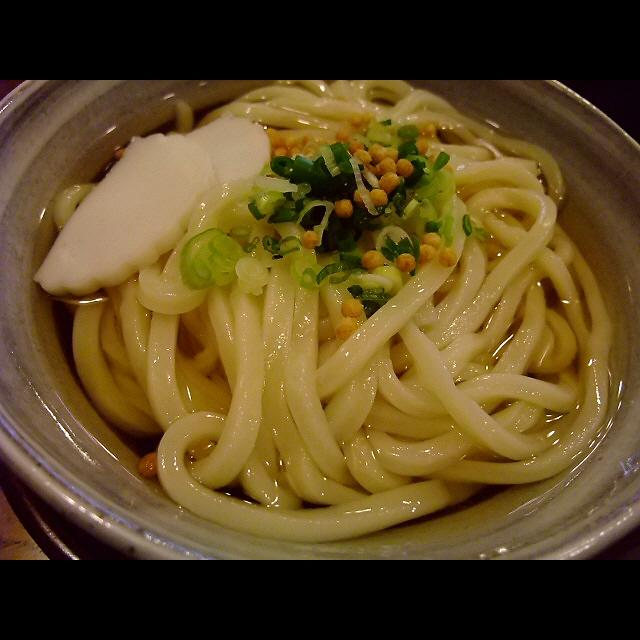noodles: (41, 80, 611, 540)
